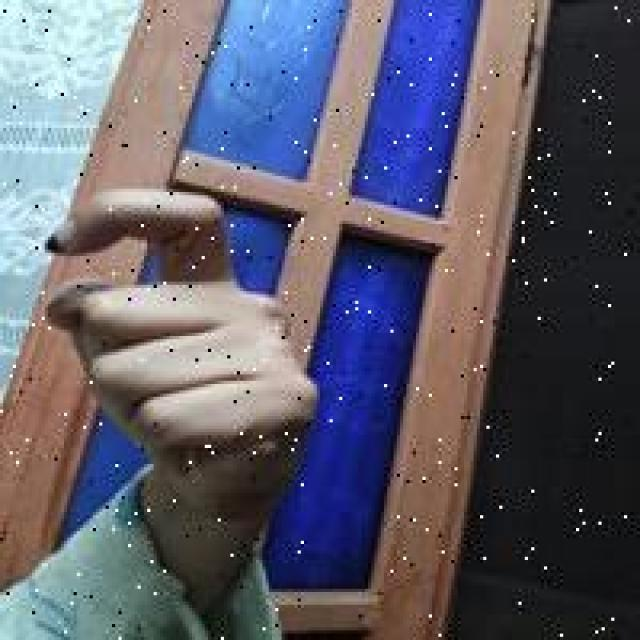X: (42, 184, 323, 491)
